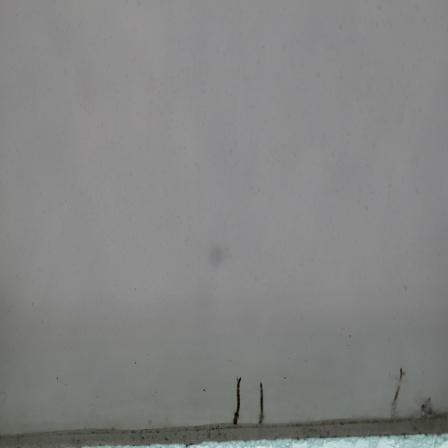Jentik-Nyamuk: (229, 374, 245, 426), (253, 378, 268, 428)
